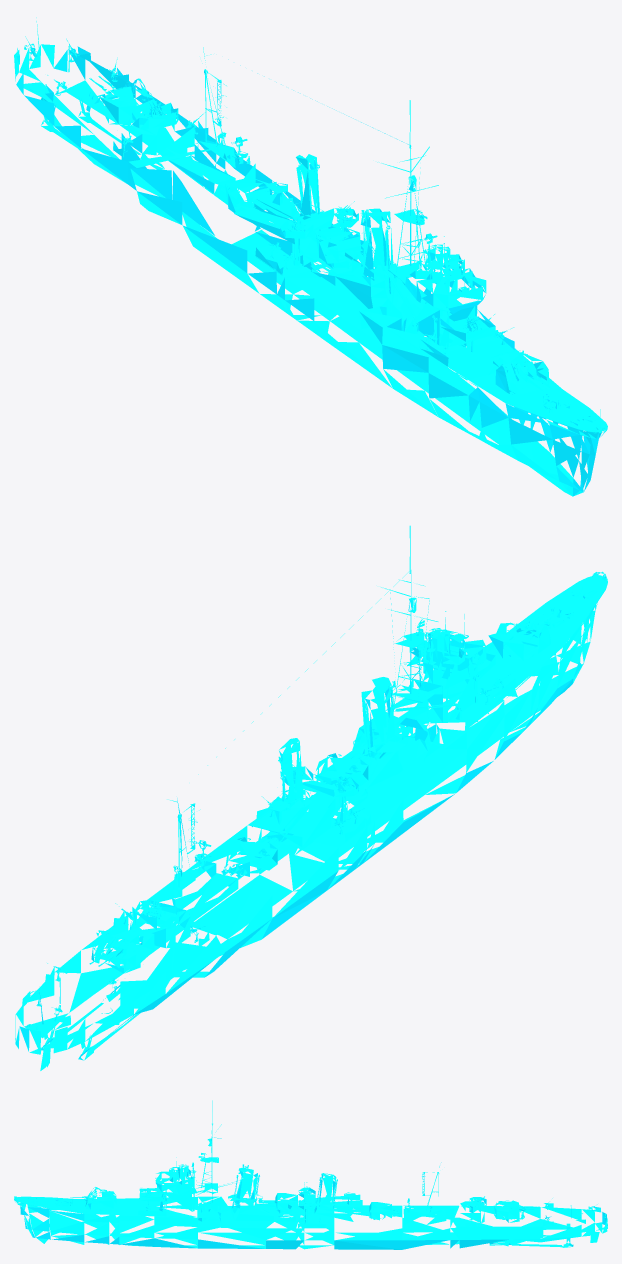
File: Hatsuharu.glb
3 renders of one model, top to bottom at view 1: azimuth 30°, elevation 25°; view 2: azimuth 150°, elevation 25°; view 3: azimuth 270°, elevation 25°, orthographic. The views are drawn at different scales.
Size of the model in its own units: 0.6757 by 1.93 by 7.17.
